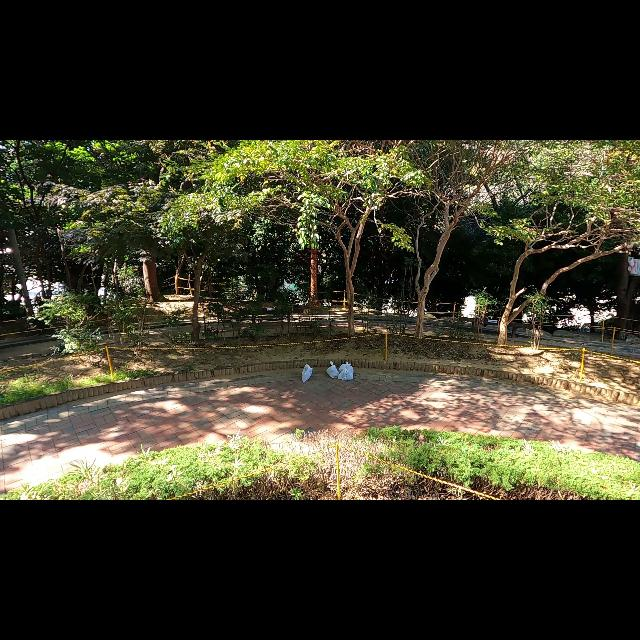trash: (337, 359, 355, 376), (300, 362, 314, 383), (326, 360, 340, 380), (338, 368, 354, 382)
